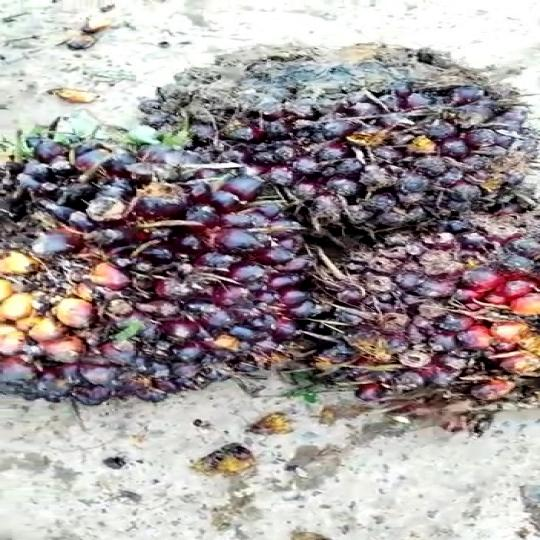kurang masak: (0, 126, 316, 428), (173, 51, 510, 242), (332, 214, 540, 444)
